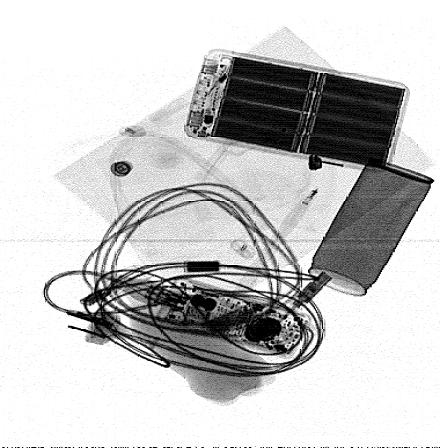Powerbank: (183, 48, 411, 173)
